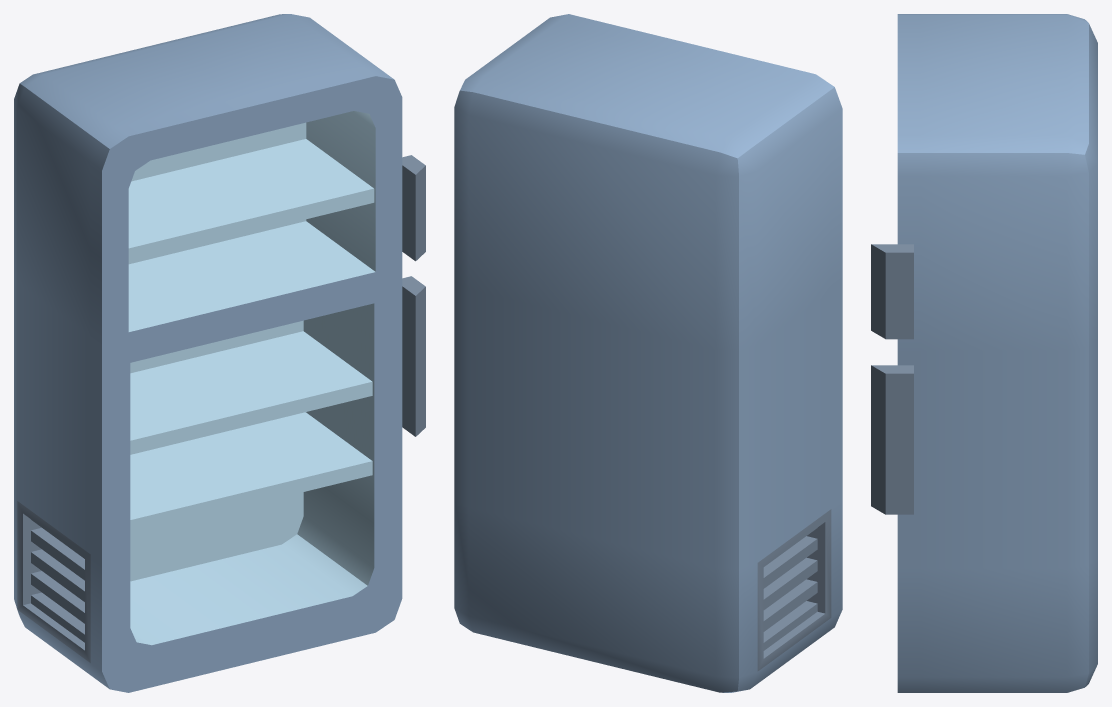
The model's file is Fridge_Base.glb.
The picture shows the model from 3 angles, left to right: view 1: azimuth 30°, elevation 25°; view 2: azimuth 150°, elevation 25°; view 3: azimuth 270°, elevation 25°; orthographic projection.
Parts seen in each view (by area): view 1: Environment_Fridge; view 2: Environment_Fridge; view 3: Environment_Fridge.
Boxes of the visible parts, x1,y1,x2,y2 form: Environment_Fridge: (14, 14, 425, 692); Environment_Fridge: (454, 14, 842, 692); Environment_Fridge: (871, 14, 1097, 692).
Bounding box in the file's own units: 2.5 × 4.18 × 1.54.
1 material, 1 textured.
